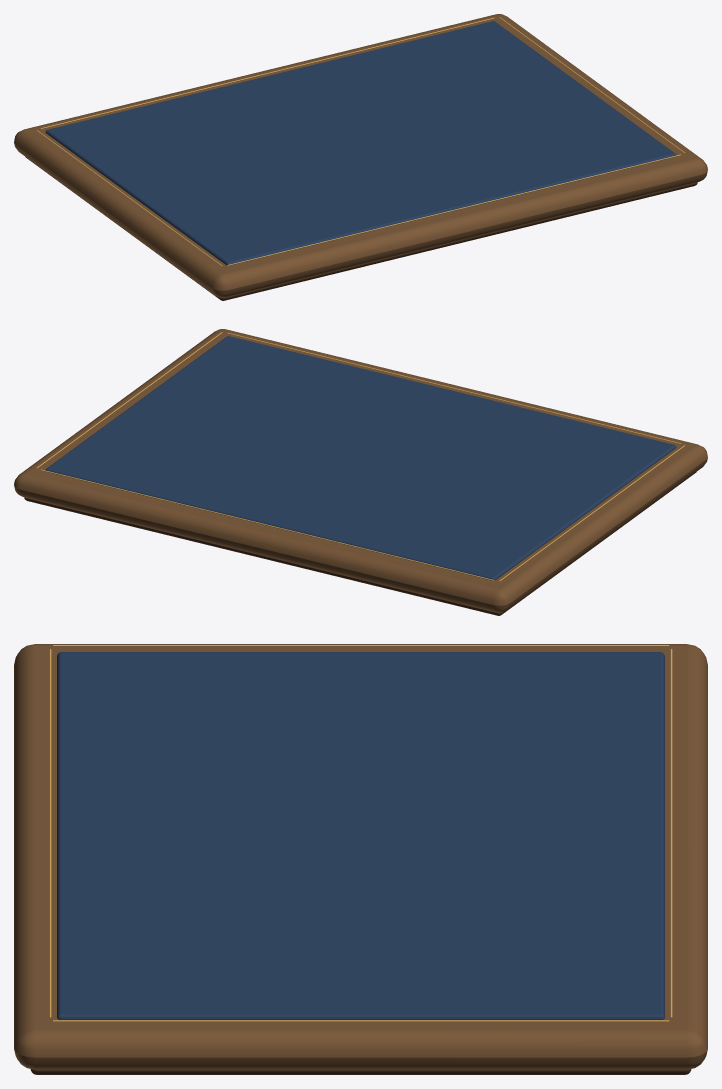
The model's file is splendor-board.glb.
3 views of the same model, one above another, from view 1: azimuth 30°, elevation 25°; view 2: azimuth 150°, elevation 25°; view 3: azimuth 270°, elevation 25° (orthographic). The views are drawn at different scales.
Parts seen in each view (by area): view 1: GEO-gameboard_inset_felt, GEO-gameboard_walnut_base, GEO-gameboard_lower_shadow, GEO-board_brass_rail_top, GEO-board_brass_rail_bottom; view 2: GEO-gameboard_inset_felt, GEO-gameboard_walnut_base, GEO-gameboard_lower_shadow, GEO-board_brass_rail_bottom, GEO-board_brass_rail_top; view 3: GEO-gameboard_inset_felt, GEO-gameboard_walnut_base, GEO-gameboard_lower_shadow, GEO-board_brass_rail_left, GEO-board_brass_rail_right, GEO-board_brass_rail_bottom, GEO-board_brass_rail_top.
Boxes of the visible parts, x1=… form: GEO-gameboard_inset_felt: x1=45, y1=21, x2=676, y2=265; GEO-gameboard_walnut_base: x1=14, y1=14, x2=707, y2=297; GEO-gameboard_lower_shadow: x1=25, y1=157, x2=697, y2=300; GEO-board_brass_rail_top: x1=40, y1=18, x2=494, y2=128; GEO-board_brass_rail_bottom: x1=227, y1=154, x2=680, y2=265; GEO-gameboard_inset_felt: x1=45, y1=336, x2=676, y2=580; GEO-gameboard_walnut_base: x1=14, y1=329, x2=707, y2=612; GEO-gameboard_lower_shadow: x1=24, y1=472, x2=696, y2=615; GEO-board_brass_rail_bottom: x1=227, y1=333, x2=681, y2=443; GEO-board_brass_rail_top: x1=41, y1=469, x2=494, y2=580; GEO-gameboard_inset_felt: x1=57, y1=652, x2=664, y2=1019; GEO-gameboard_walnut_base: x1=14, y1=644, x2=707, y2=1069; GEO-gameboard_lower_shadow: x1=30, y1=1069, x2=691, y2=1074; GEO-board_brass_rail_left: x1=52, y1=645, x2=669, y2=646; GEO-board_brass_rail_right: x1=52, y1=1020, x2=669, y2=1021; GEO-board_brass_rail_bottom: x1=49, y1=649, x2=51, y2=1017; GEO-board_brass_rail_top: x1=670, y1=649, x2=672, y2=1017.
Bounding box in the file's own units: 13 × 0.764 × 9.5.
